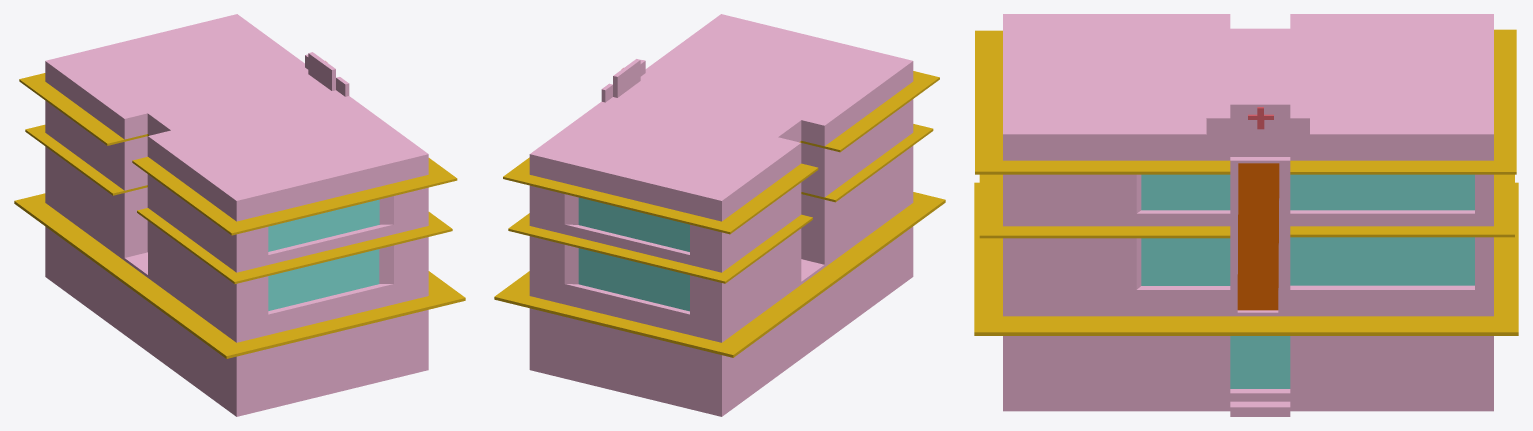
File: Hospital.fbx
The picture shows the model from 3 angles, left to right: view 1: azimuth 30°, elevation 25°; view 2: azimuth 150°, elevation 25°; view 3: azimuth 270°, elevation 25°; orthographic projection. The views are drawn at different scales.
Parts seen in each view (by area): view 1: Main.004, Deko.002, Glas.014; view 2: Main.004, Deko.002, Glas.014; view 3: Main.004, Deko.002, Glas.014, Main.005.
Part boxes in pixels (x1,y1,x2,y2): Main.004: (45,14,428,416); Deko.002: (14,73,465,358); Glas.014: (268,199,379,310); Main.004: (529,14,913,416); Deko.002: (494,71,945,357); Glas.014: (578,197,689,311); Main.004: (1003,14,1493,416); Deko.002: (974,29,1518,335); Glas.014: (1141,174,1474,388); Main.005: (1237,163,1279,310).
Size of the model in its own units: 1440 by 1364 by 2214.
